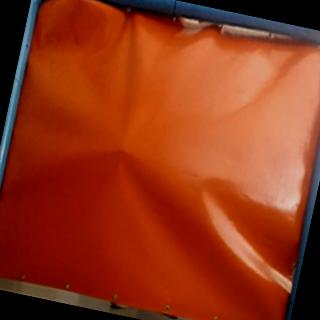Hit-hRxx: (114, 140, 132, 156)
